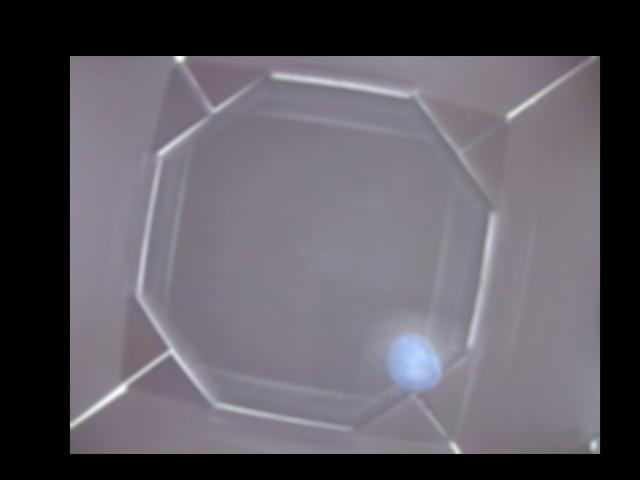Pebble: (386, 334, 440, 386)
